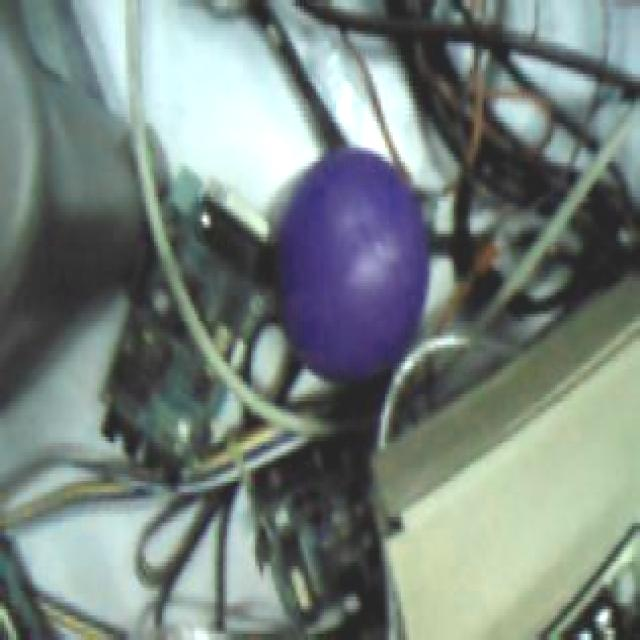BallPurple: (268, 146, 428, 384)
